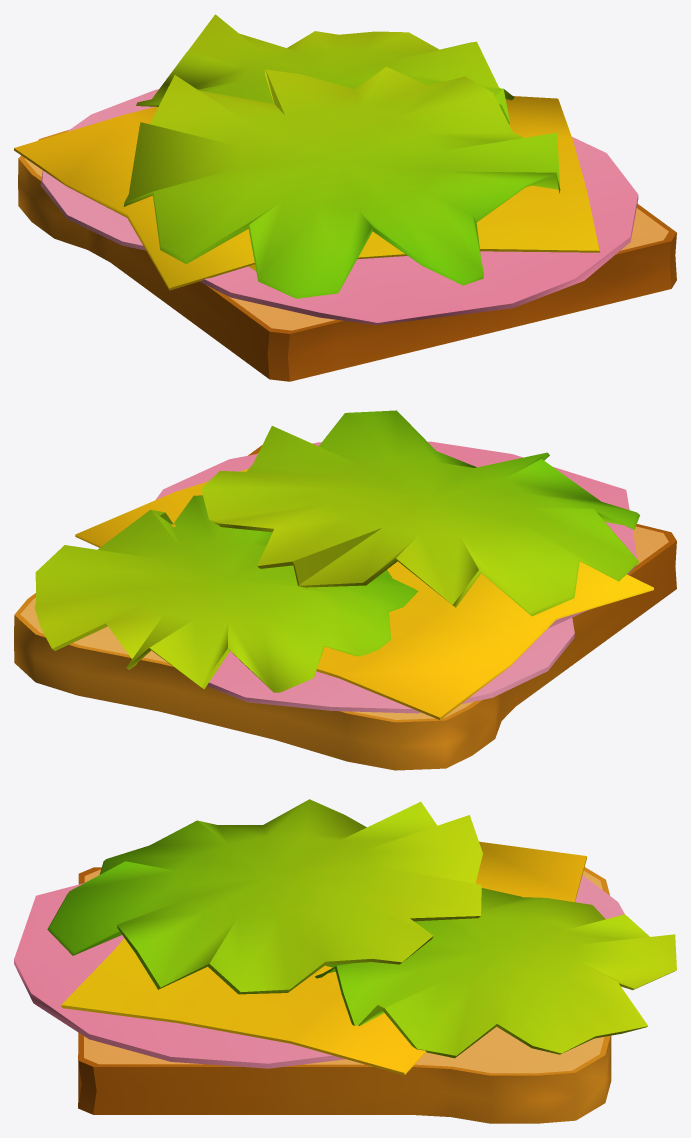
The model's file is Filling.fbx.
3 views of the same model, one above another, from view 1: azimuth 30°, elevation 25°; view 2: azimuth 150°, elevation 25°; view 3: azimuth 270°, elevation 25° (orthographic).
Visible parts, largest first — view 1: Filling, Toast; view 2: Filling, Toast; view 3: Filling, Toast.
Boxes of the visible parts, box(x1,y1,x2,y2) form: Filling: box(14, 14, 638, 324); Toast: box(18, 129, 676, 381); Filling: box(34, 410, 653, 719); Toast: box(14, 445, 676, 770); Filling: box(14, 799, 676, 1075); Toast: box(78, 867, 611, 1123).
Size of the model in its own units: 579 by 167 by 687.
